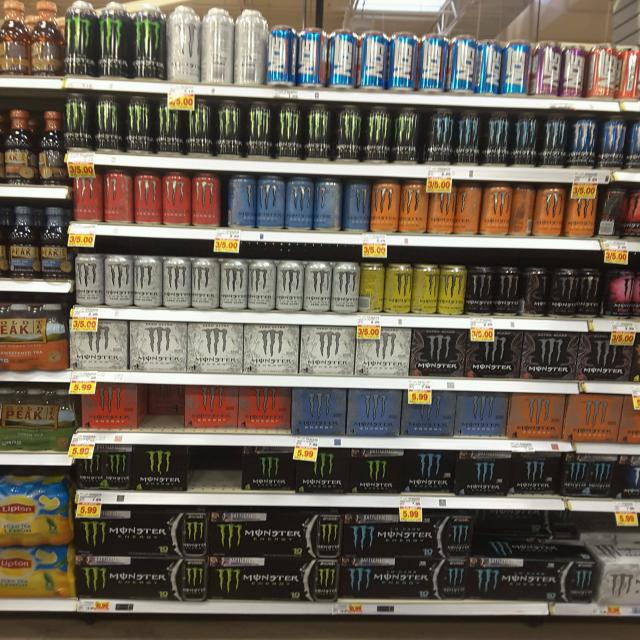unorganised: (193, 385, 289, 436), (204, 7, 264, 87), (135, 382, 187, 431), (314, 177, 345, 231), (229, 173, 258, 227), (452, 186, 484, 234), (599, 185, 627, 238), (512, 183, 539, 237), (359, 264, 386, 312), (609, 267, 634, 318), (527, 267, 550, 318)
